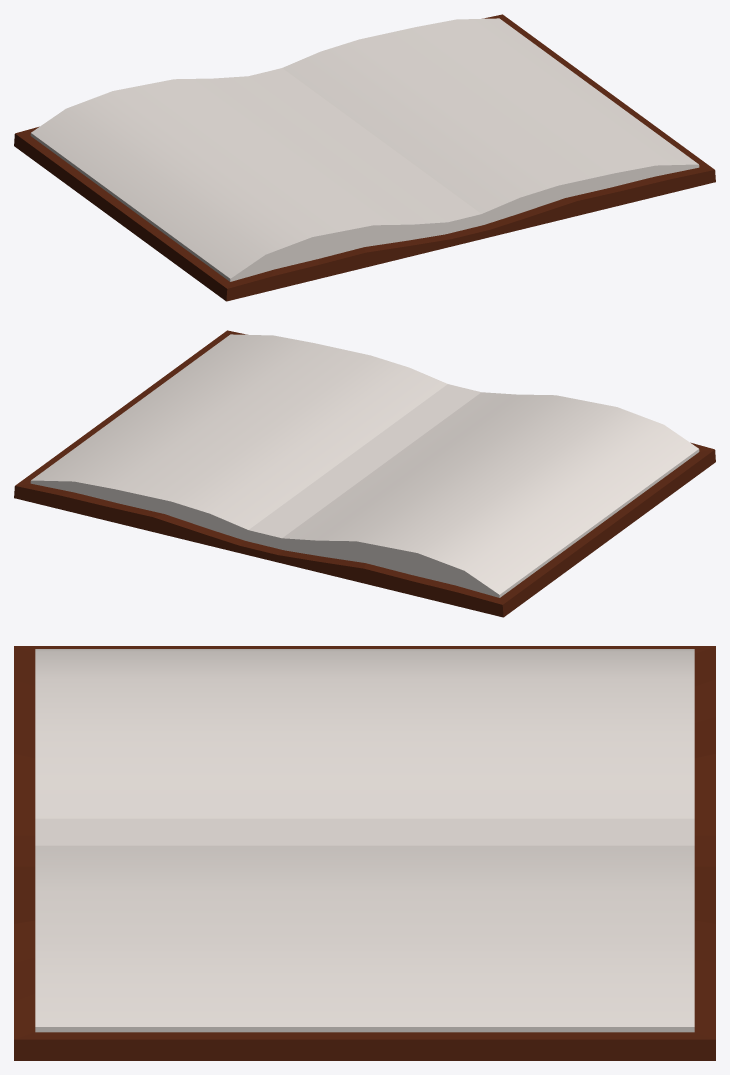
Rendered from Journal.fbx.
3 renders of one model, top to bottom at view 1: azimuth 30°, elevation 25°; view 2: azimuth 150°, elevation 25°; view 3: azimuth 270°, elevation 25°, orthographic. The views are drawn at different scales.
Parts seen in each view (by area): view 1: Journal; view 2: Journal; view 3: Journal.
Part boxes in pixels (x1=…): Journal: x1=14, y1=14, x2=715, y2=301; Journal: x1=14, y1=330, x2=715, y2=617; Journal: x1=14, y1=646, x2=715, y2=1060.
Size of the model in its own units: 69.98 by 5.08 by 52.59.
